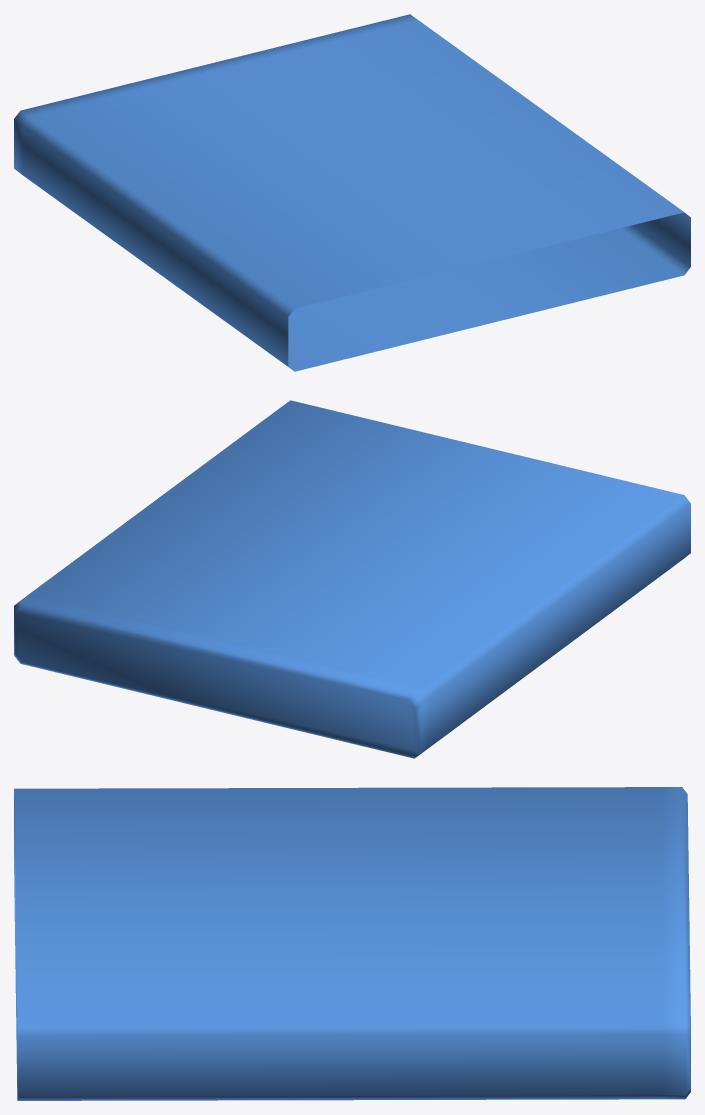
The model's file is CPORTAL2.glb.
The picture shows the model from 3 angles, top to bottom: view 1: azimuth 30°, elevation 25°; view 2: azimuth 150°, elevation 25°; view 3: azimuth 270°, elevation 25°; orthographic projection. The views are drawn at different scales.
Visible parts, largest first — view 1: chip; view 2: chip; view 3: chip.
Part boxes in pixels (x1,y1,x2,y2): chip: (14, 14, 690, 371); chip: (14, 400, 690, 758); chip: (14, 787, 690, 1100).
Bounding box in the file's own units: 0.2651 × 0.0392 × 0.3107.
